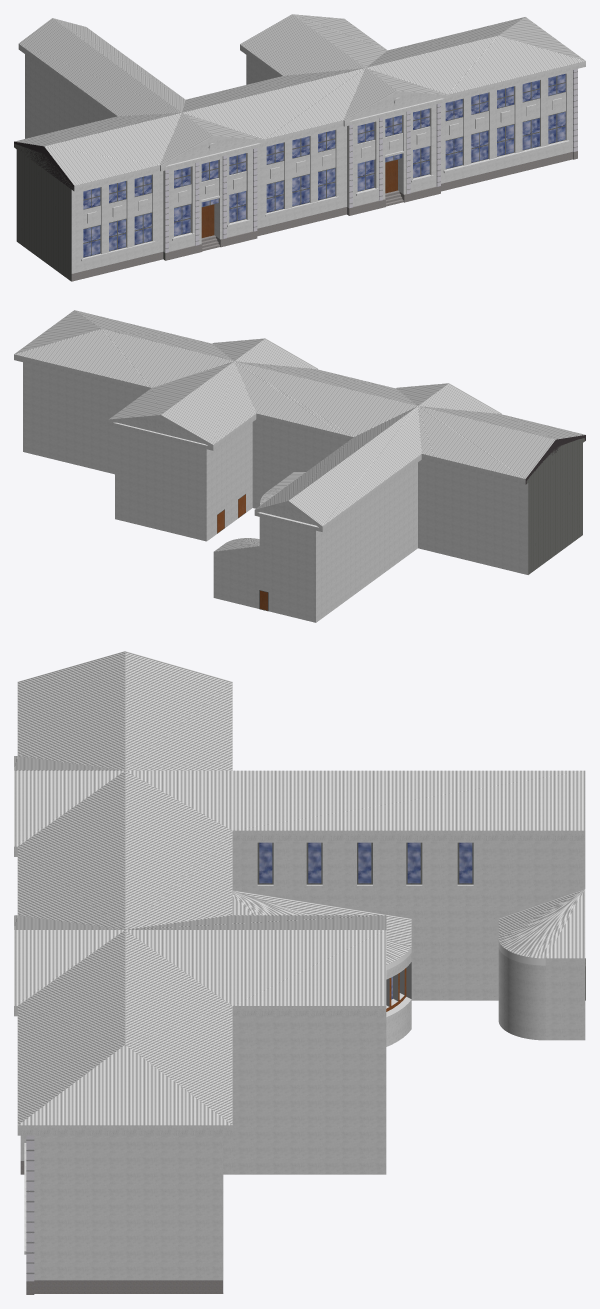
Rendered from felipe (2).glb.
3 renders of one model, top to bottom at view 1: azimuth 30°, elevation 25°; view 2: azimuth 150°, elevation 25°; view 3: azimuth 270°, elevation 25°, orthographic. The views are drawn at different scales.
Parts seen in each view (by area): view 1: Geom3D.028, Geom3D.020, Geom3D.019, Geom3D.022, Geom3D_.001, Geom3D.024, Geom3D.026, Geom3D.025, Geom3D.029; view 2: Geom3D.020, Geom3D.028, Geom3D.022, Geom3D_.001, Geom3D.023, Geom3D.027; view 3: Geom3D.028, Geom3D.020, Geom3D_.001, Geom3D.023, Geom3D.019, Geom3D.024, Geom3D.026, Geom3D.022, Geom3D_.
Part boxes in pixels (box(x1,y1,x2,y2)): Geom3D.028: box(14, 14, 585, 185); Geom3D.020: box(25, 54, 572, 273); Geom3D.019: box(83, 74, 565, 257); Geom3D.022: box(14, 74, 565, 281); Geom3D_.001: box(18, 44, 585, 191); Geom3D.024: box(71, 151, 577, 281); Geom3D.026: box(165, 69, 577, 252); Geom3D.025: box(201, 159, 397, 237); Geom3D.029: box(14, 141, 74, 190); Geom3D.020: box(23, 362, 528, 622); Geom3D.028: box(14, 310, 585, 526); Geom3D.022: box(217, 438, 584, 611); Geom3D_.001: box(14, 354, 525, 531); Geom3D.023: box(214, 472, 305, 551); Geom3D.027: box(217, 494, 267, 610); Geom3D.028: box(14, 651, 585, 1125); Geom3D.020: box(20, 841, 585, 1292); Geom3D_.001: box(14, 830, 585, 1135); Geom3D.023: box(232, 889, 585, 964); Geom3D.019: box(259, 842, 472, 999); Geom3D.024: box(20, 1161, 223, 1294); Geom3D.026: box(26, 1135, 34, 1281); Geom3D.022: box(257, 842, 585, 1000); Geom3D_: box(386, 962, 411, 1016).
Bounding box in the file's own units: 55.7 × 12 × 30.35.
Materials: 10 (9 with a texture image).
